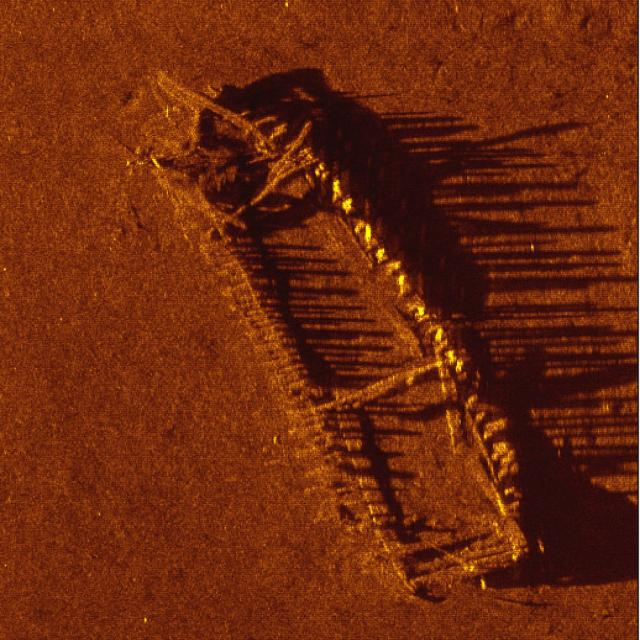ship: (160, 70, 538, 585)
